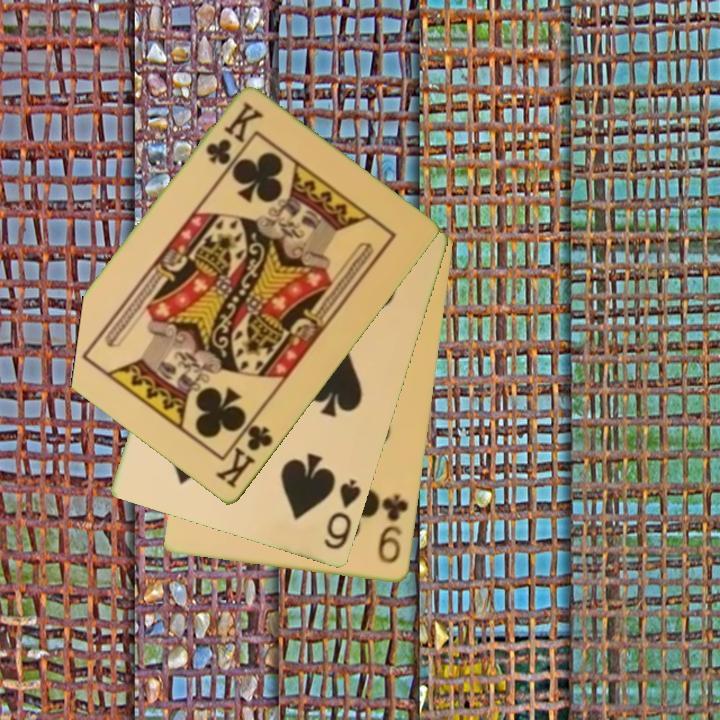6s: (320, 476, 364, 553)
9c: (375, 491, 412, 567)
Kc: (212, 412, 277, 492), (202, 99, 266, 169)
